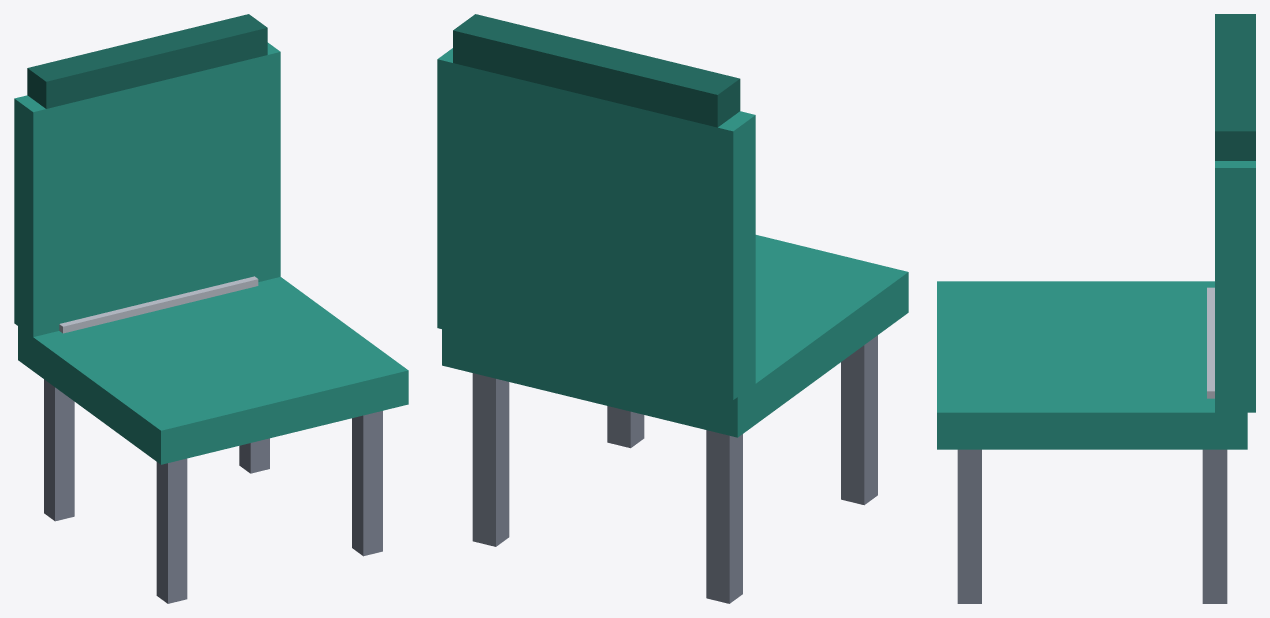
Rendered from waiting-chair.glb.
The picture shows the model from 3 angles, left to right: view 1: azimuth 30°, elevation 25°; view 2: azimuth 150°, elevation 25°; view 3: azimuth 270°, elevation 25°; orthographic projection. The views are drawn at different scales.
Visible parts, largest first — view 1: waiting-chair; view 2: waiting-chair; view 3: waiting-chair.
Part boxes in pixels (x1,y1,x2,y2): waiting-chair: (14, 14, 408, 603); waiting-chair: (437, 14, 908, 603); waiting-chair: (937, 14, 1255, 603).
Bounding box in the file's own units: 0.38 × 0.64 × 0.39.
Materials: 1 (1 with a texture image).
